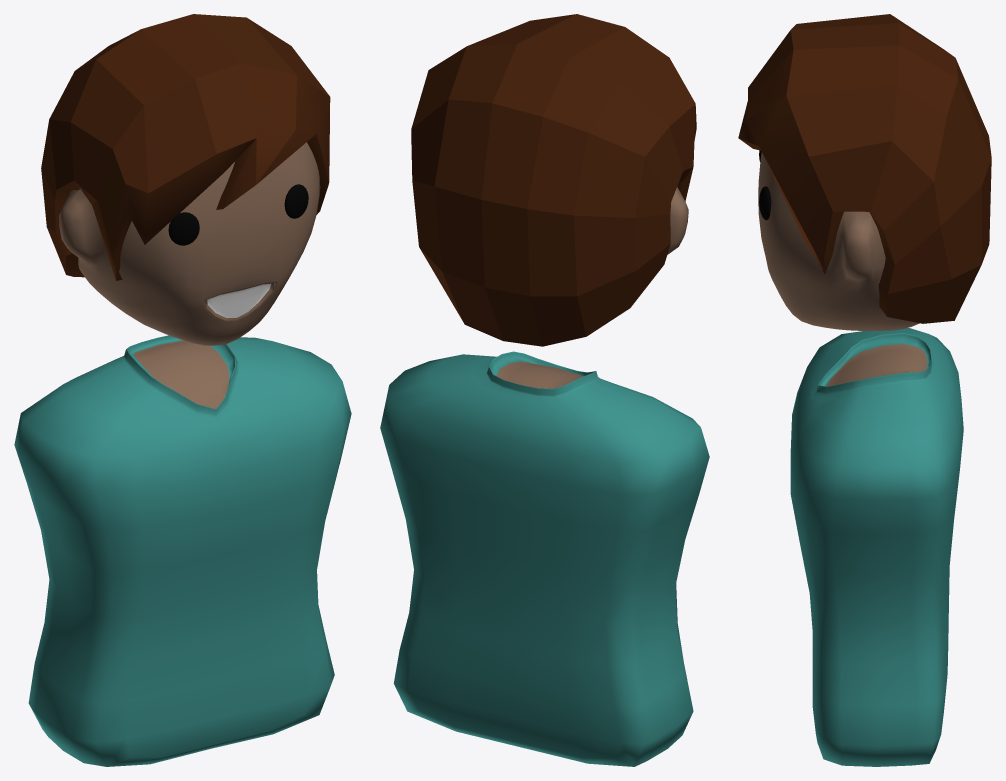
Rendered from Avatar_01_Female.fbx.
The picture shows the model from 3 angles, left to right: view 1: azimuth 30°, elevation 25°; view 2: azimuth 150°, elevation 25°; view 3: azimuth 270°, elevation 25°; orthographic projection. The views are drawn at different scales.
Visible parts, largest first — view 1: Body, Hair_Loft, Head, Eye_R, Eye_L; view 2: Body, Hair_Loft, Head; view 3: Body, Hair_Loft, Head.
Boxes of the visible parts, x1,y1,x2,y2 form: Body: (14,335,351,766); Hair_Loft: (41,14,330,280); Head: (59,142,319,345); Eye_R: (168,212,199,245); Eye_L: (284,184,308,218); Body: (380,351,709,766); Hair_Loft: (411,14,696,346); Head: (667,187,688,254); Body: (790,328,963,766); Hair_Loft: (738,14,991,323); Head: (758,152,919,330).
Bounding box in the file's own units: 36.66 × 81.79 × 27.57.
